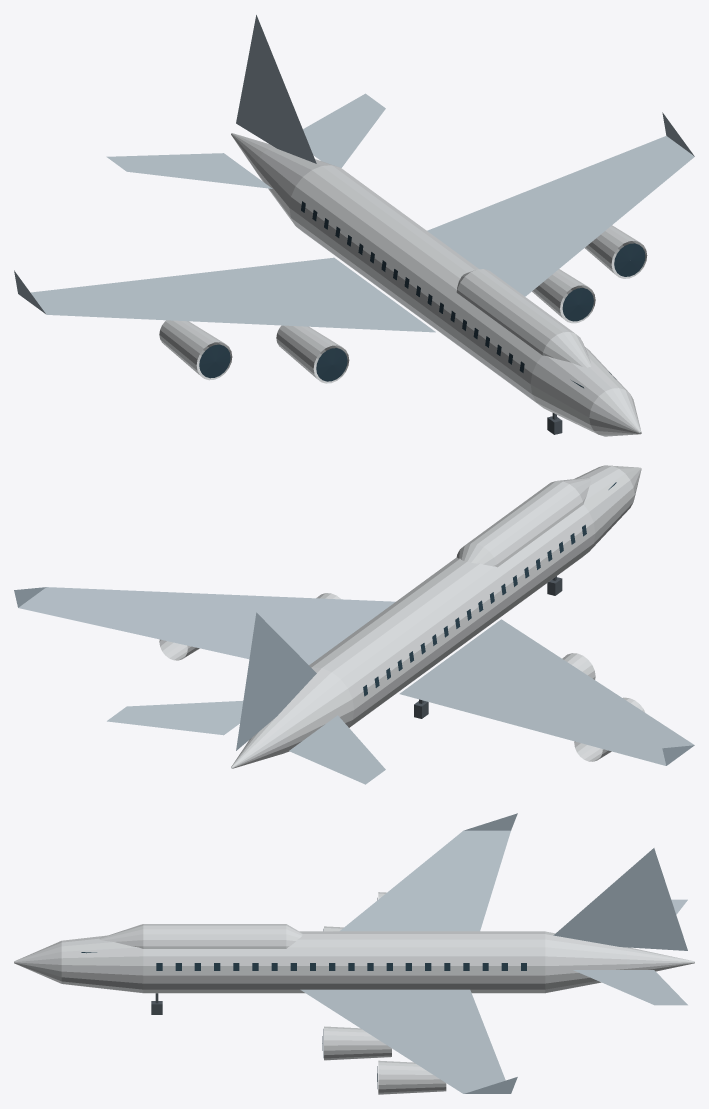
Rendered from b747-neutral.gltf.
3 renders of one model, top to bottom at view 1: azimuth 30°, elevation 25°; view 2: azimuth 150°, elevation 25°; view 3: azimuth 270°, elevation 25°, orthographic. The views are drawn at different scales.
Parts seen in each view (by area): view 1: object 1; view 2: object 1, Gear; view 3: object 1.
Boxes of the visible parts, bbox=[...] form: object 1: bbox=[14, 15, 694, 436]; object 1: bbox=[14, 465, 694, 784]; Gear: bbox=[414, 576, 562, 718]; object 1: bbox=[14, 813, 694, 1094].
Bounding box in the file's own units: 65 × 19.04 × 71.
